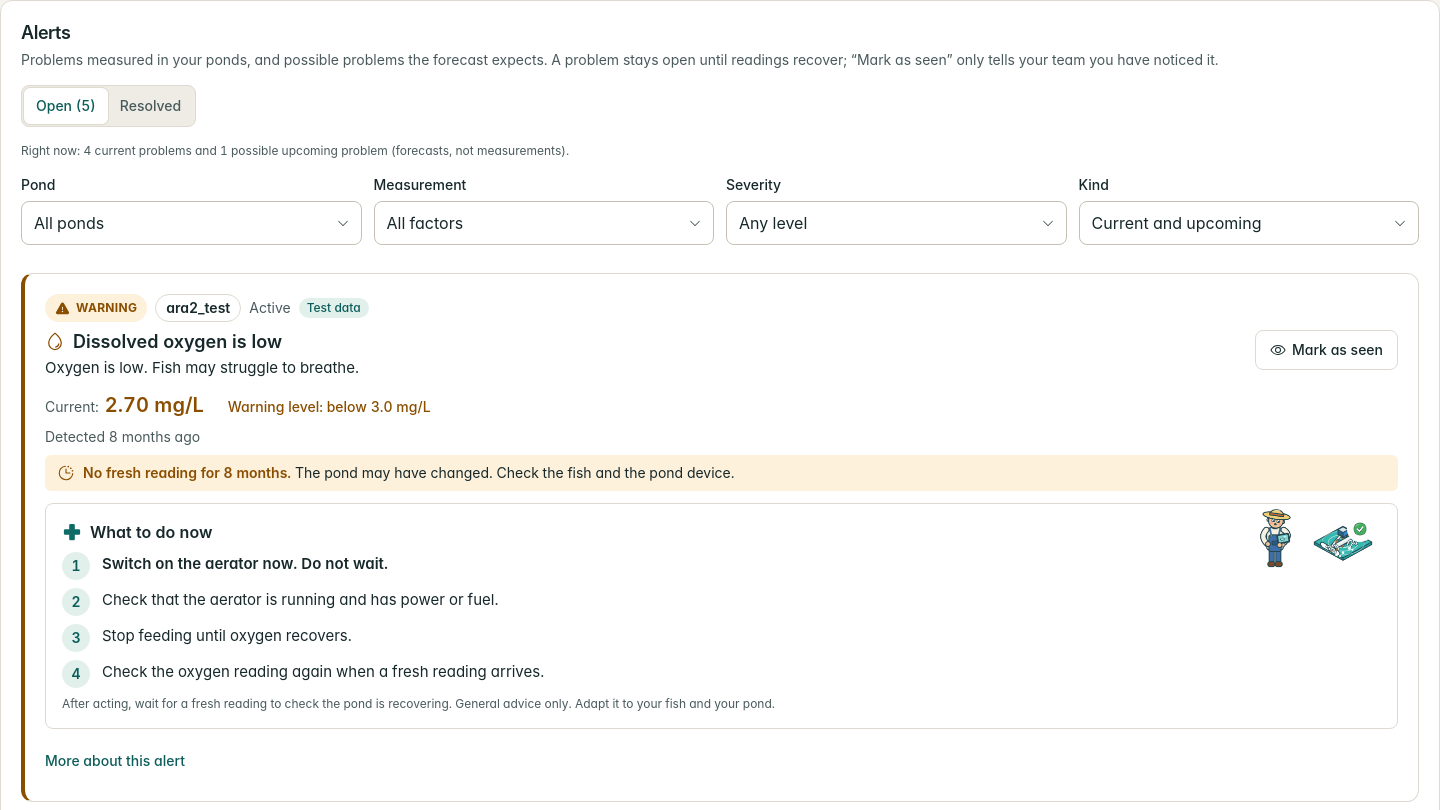
Test: Alerts page in plain language › tabs separate open (including marked-as-seen) and resolved problems using the server's status filter
The image size is (1440, 810).
Expected: the heading "Dissolved oxygen is low" is shown, x1=45 y1=331 x2=282 y2=352
Click the button "Resolved" at point(150, 106), box x1=108 y1=88 x2=193 y2=124
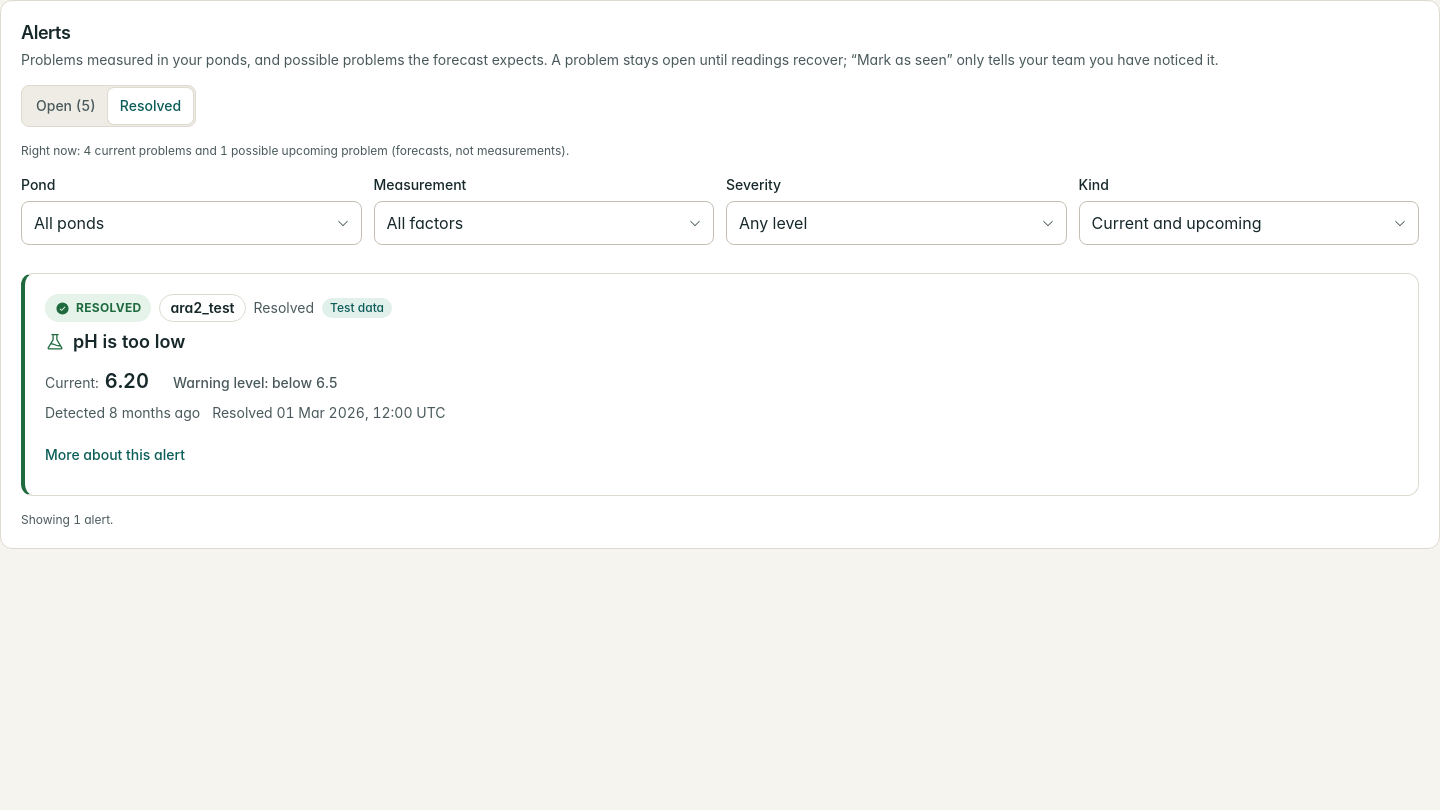
Now the element "pH is too low" shows "Resolved", box x1=76 y1=300 x2=142 y2=315
